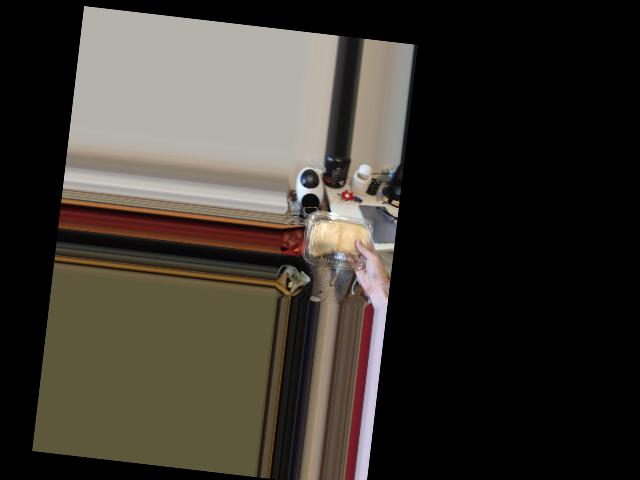cheese: (305, 204, 372, 275)
